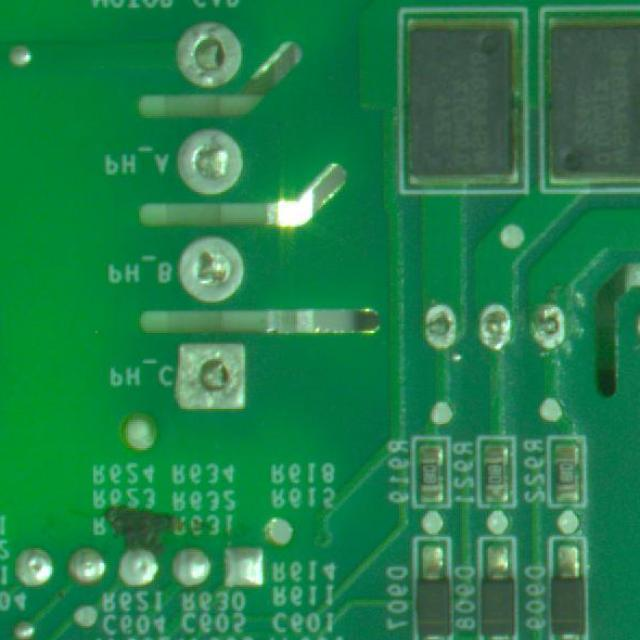Insufficient solder: (168, 337, 257, 422), (173, 119, 260, 204), (171, 229, 256, 308), (177, 8, 250, 94), (470, 292, 514, 364), (418, 302, 462, 354), (526, 298, 570, 350)
